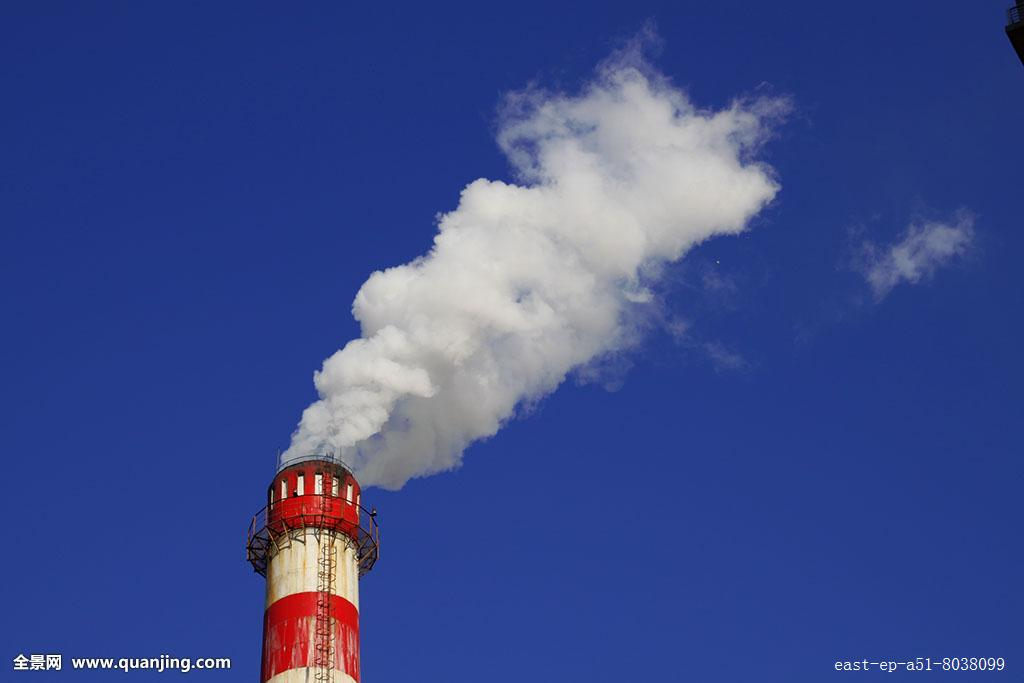dust: (263, 105, 724, 483)
